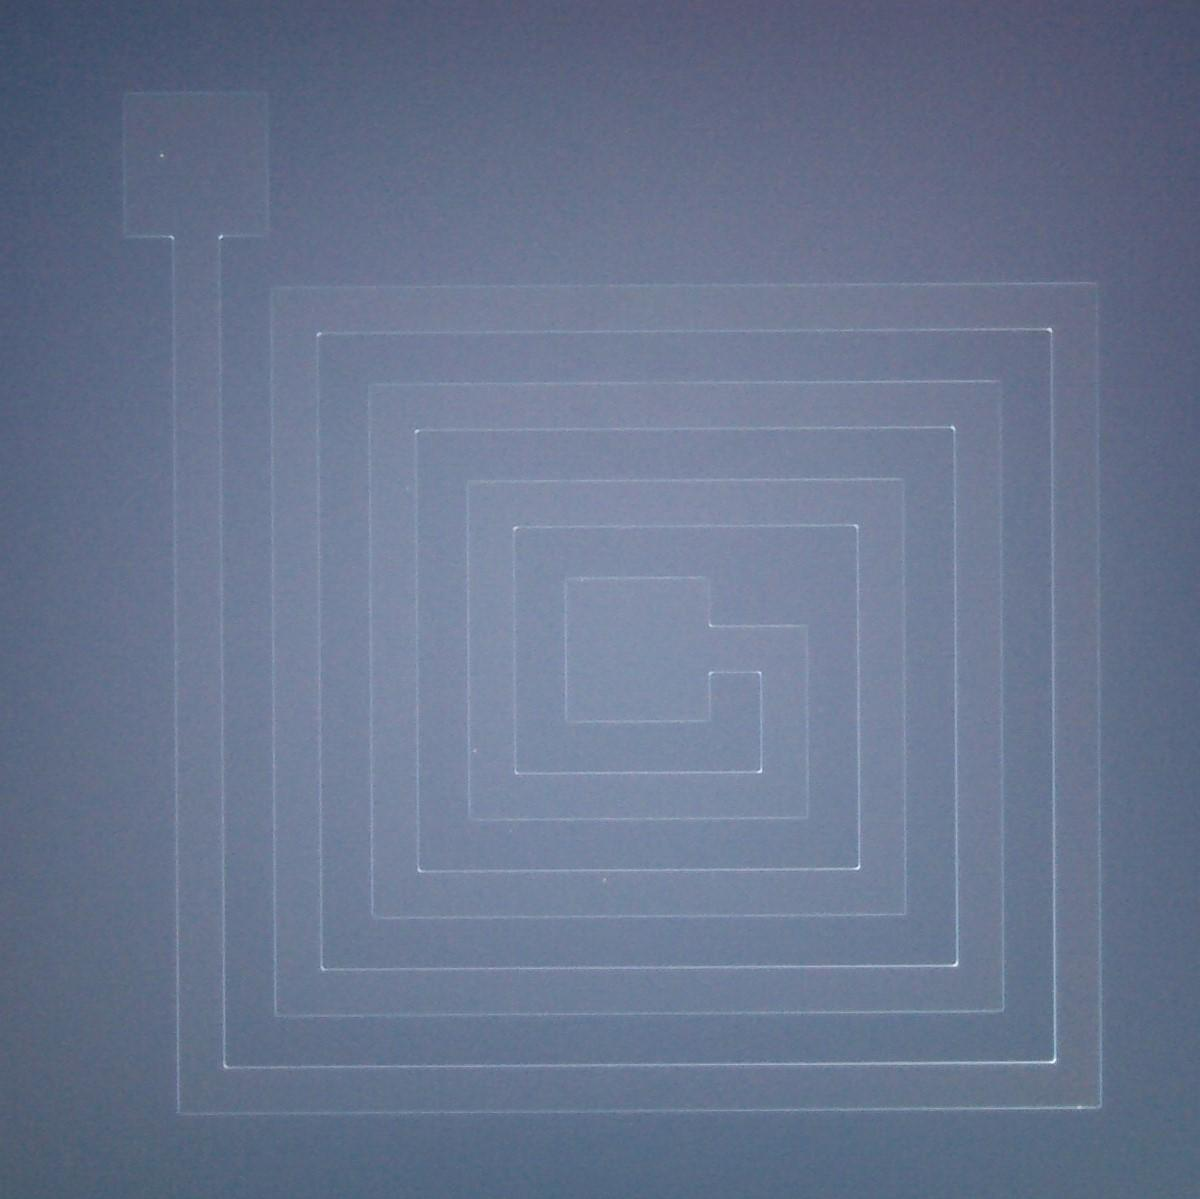s_point: (462, 738, 486, 763), (593, 869, 616, 893), (153, 147, 171, 164)
